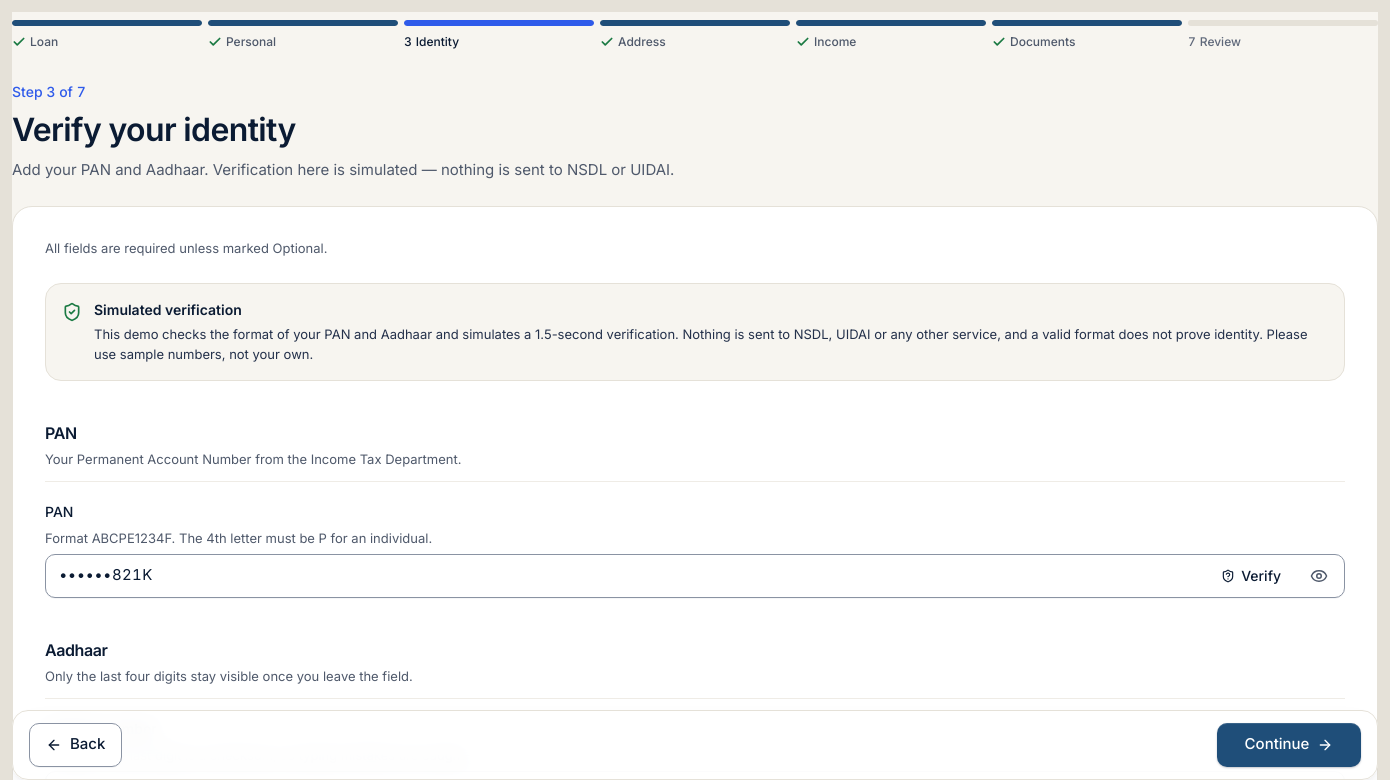
Test: fillDemoStep › leaves identity checks to the person, so an unverified PAN still blocks Continue
Click the button "Continue": {"x": 1289, "y": 745} [1217,723,1361,767]
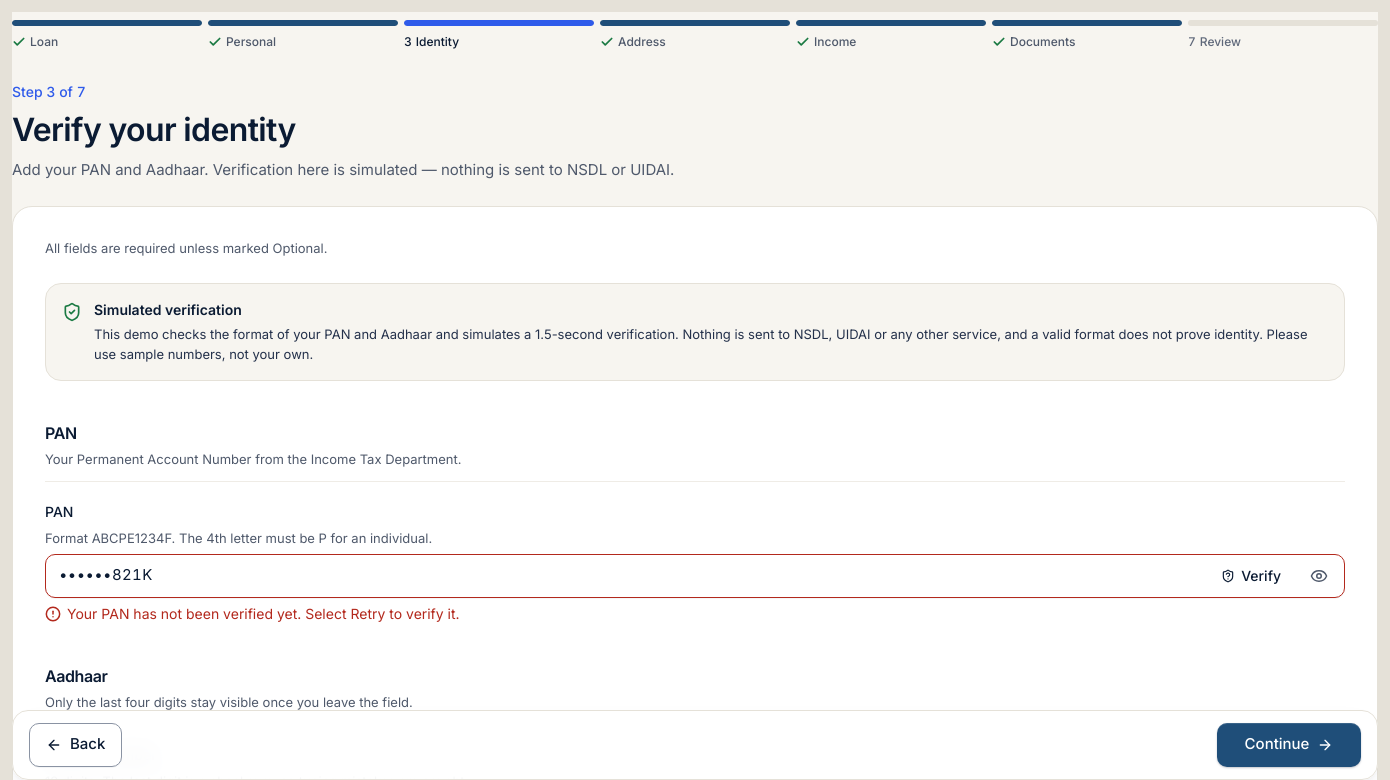
Check: the heading "Verify your identity" is shown, box [12,110,296,149]
Check: the text "PAN has not been verified yet" is shown, box [67,604,460,622]
